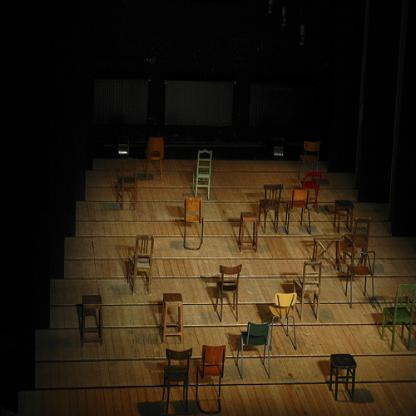chair: (379, 282, 415, 354), (164, 347, 195, 415), (343, 250, 378, 310), (237, 323, 271, 383), (197, 348, 227, 410), (127, 234, 156, 294), (214, 262, 242, 324), (269, 293, 298, 352), (294, 262, 324, 319), (343, 214, 372, 271), (285, 190, 314, 240), (182, 199, 206, 254), (190, 150, 216, 200), (259, 182, 282, 236), (119, 158, 140, 215), (297, 140, 321, 183), (300, 172, 324, 211), (144, 137, 165, 181)
